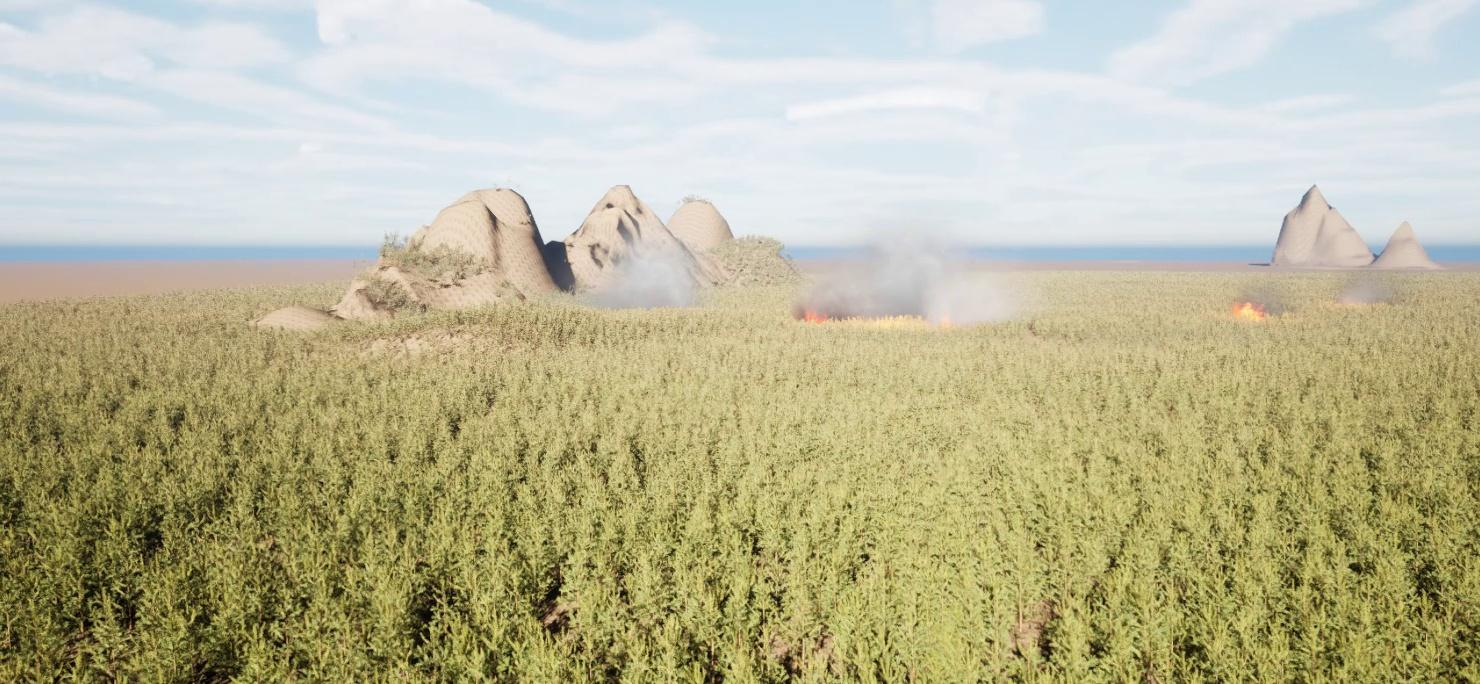fire: (1227, 299, 1271, 322), (796, 301, 835, 324)
smoke: (783, 237, 1012, 325), (572, 244, 702, 311), (1330, 269, 1398, 311)
